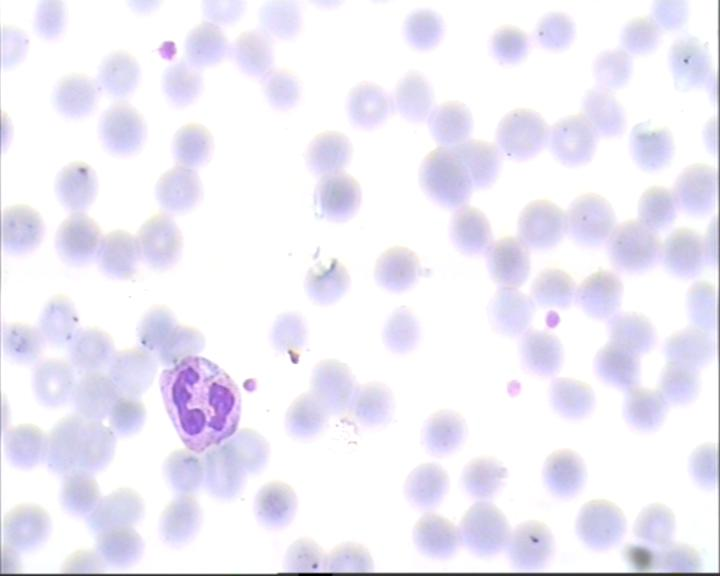neut: (158, 351, 246, 456)
